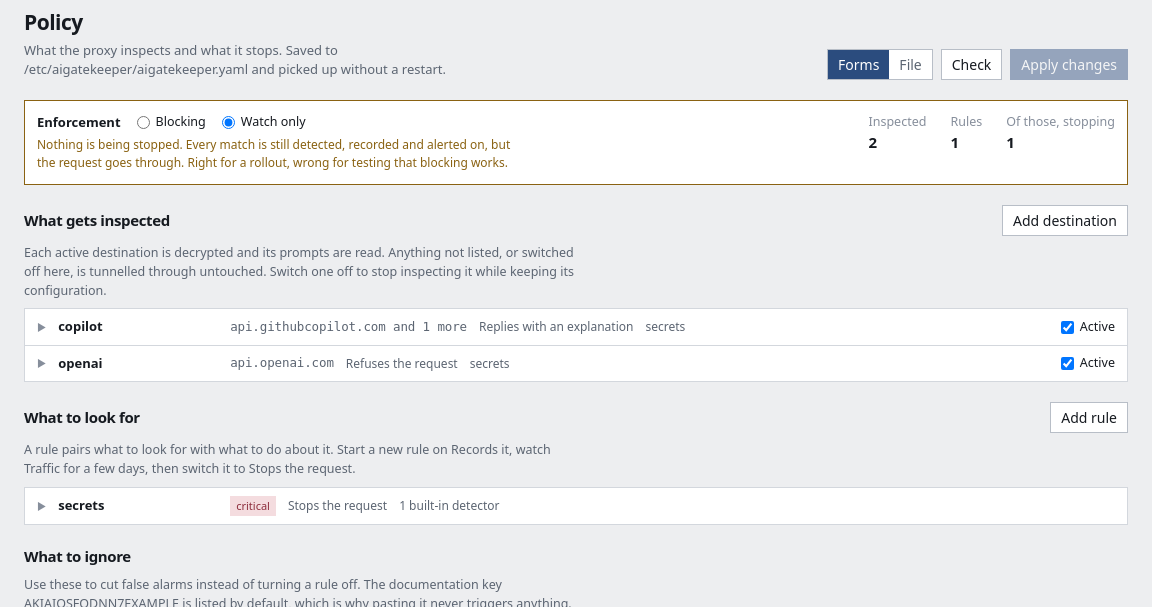
Scenario: Policy › resetting prefixes drops the option so the defaults apply again
The width and height of the screenshot is (1152, 607).
Expected: the element "What to look for" is shown, [24,402,1128,525]
Click the button "▶ secrets critical Stops the request 1 built-in detector".
click(81, 505)  # box [25,488,1115,524]
(page scrolled)
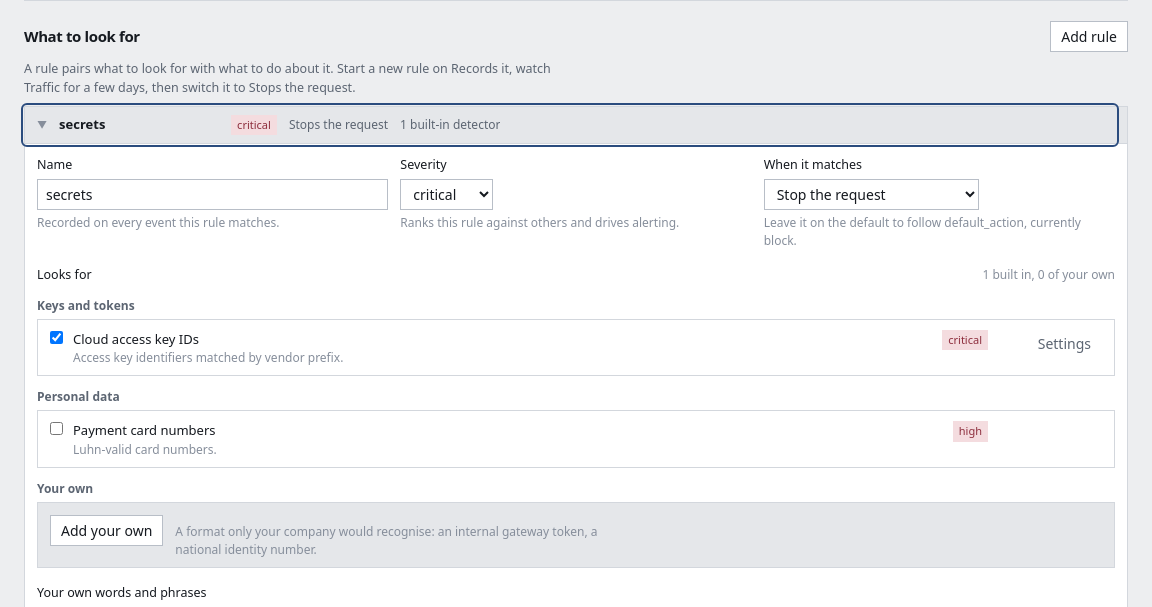
Click the button "Settings".
click(1064, 343)  # box [1027,328,1102,359]
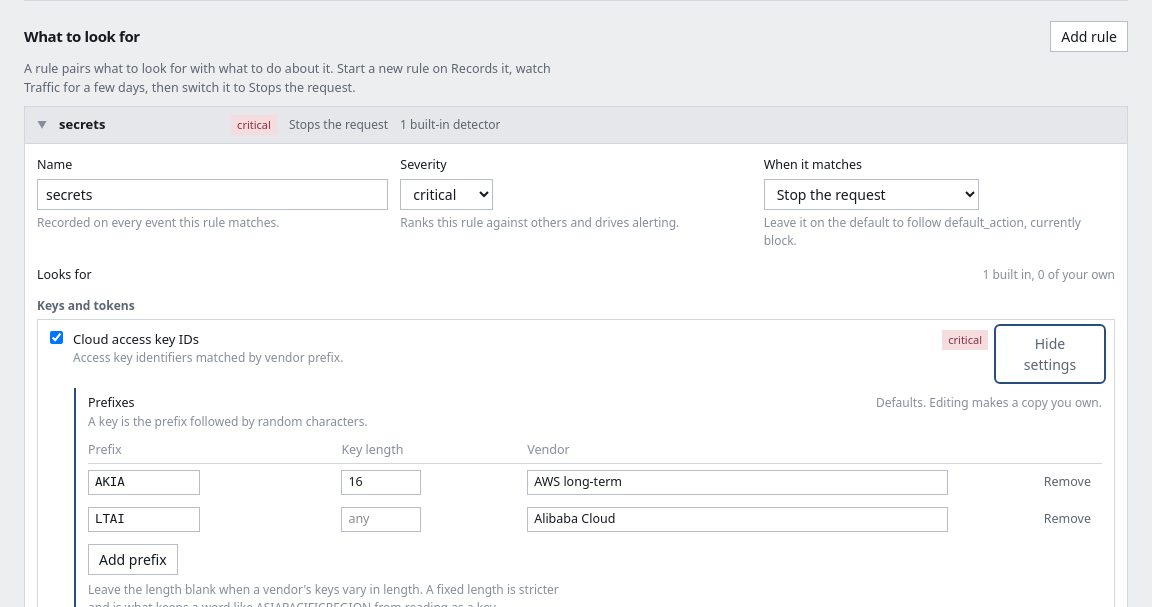
Clear the field named "Prefix 1" at (144, 483), box [88,470,200,495]
(page scrolled)
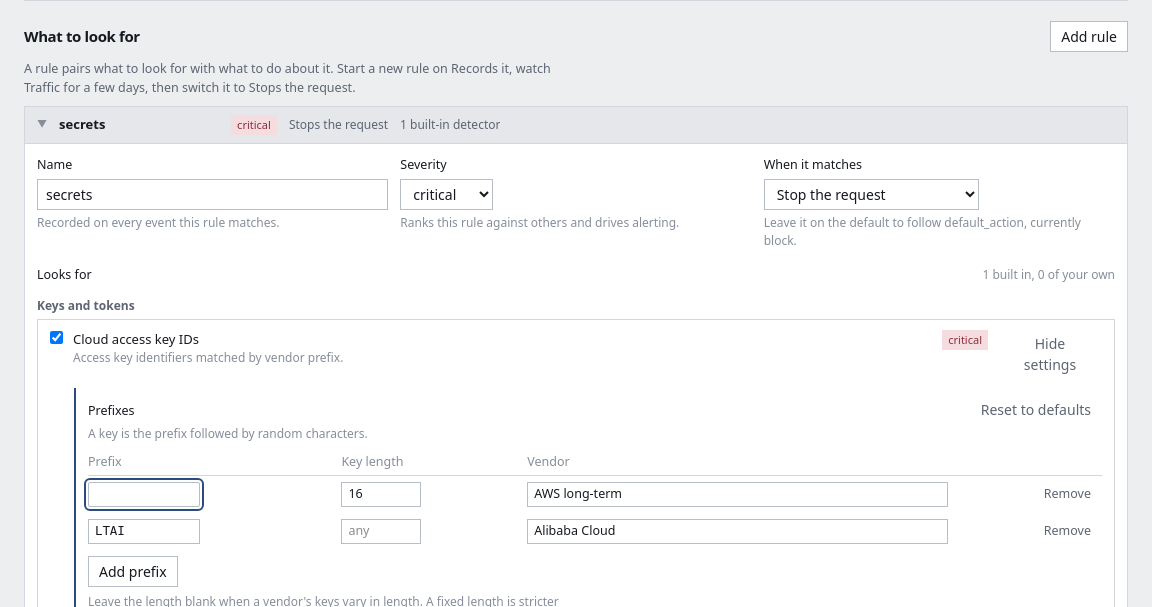
Type "CORP" into the field named "Prefix 1".
click(144, 495); type("CORP")  # box [88,482,200,507]
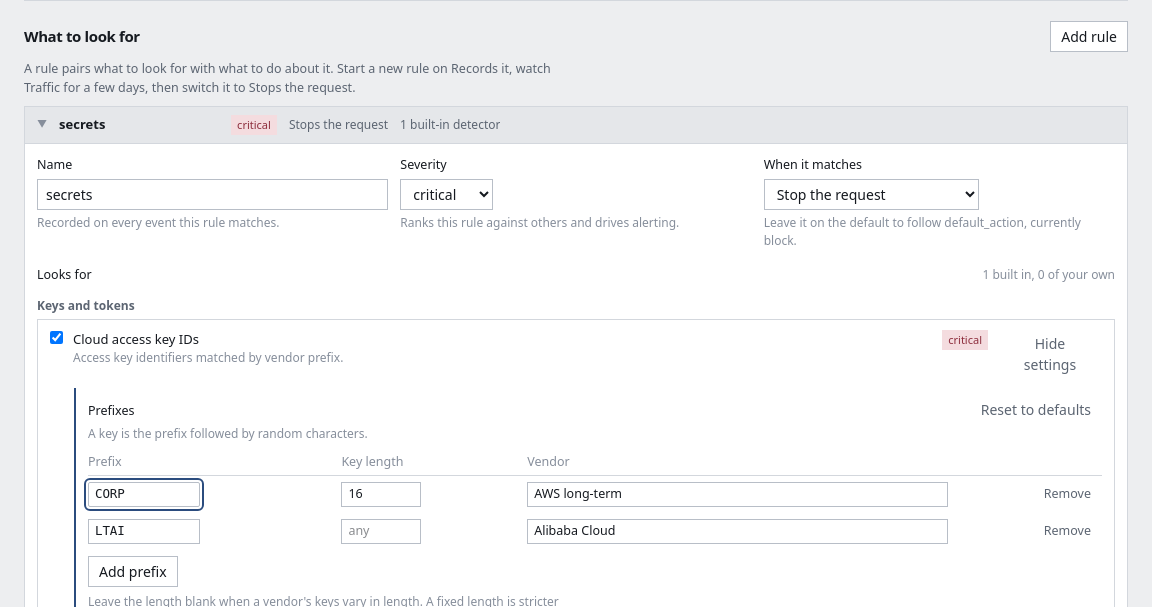
Click the button "Reset to defaults".
click(1036, 409)  # box [970,394,1102,424]
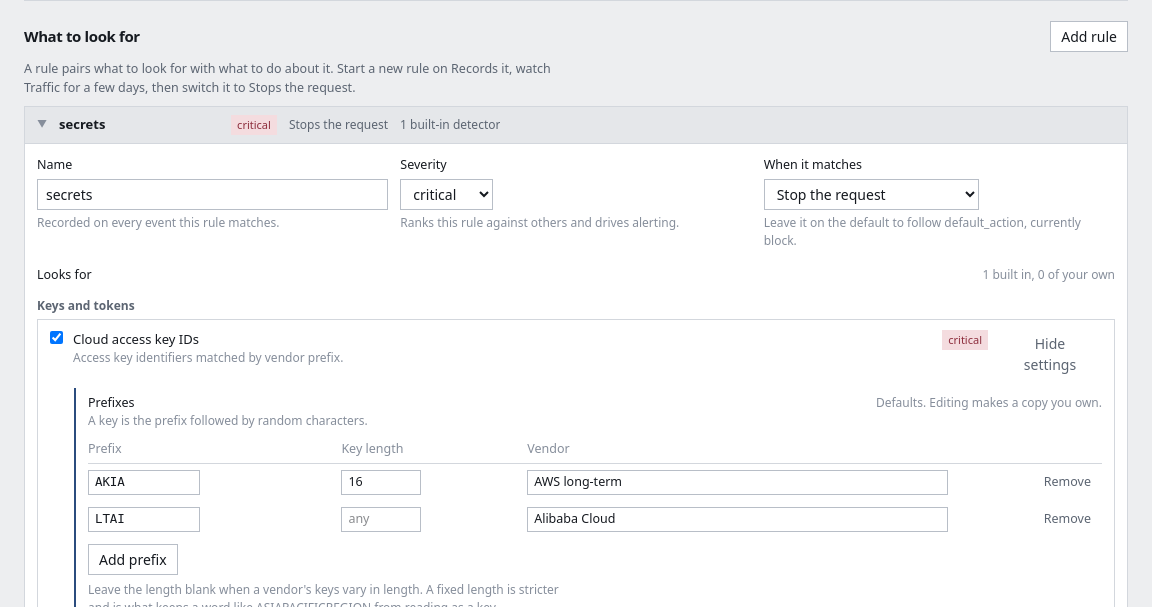
Expected: the field named "Prefix 1" holds "AKIA", [88,470,200,495]
Expected: the text "Defaults. Editing makes a copy you own." is shown, [876,394,1102,412]
